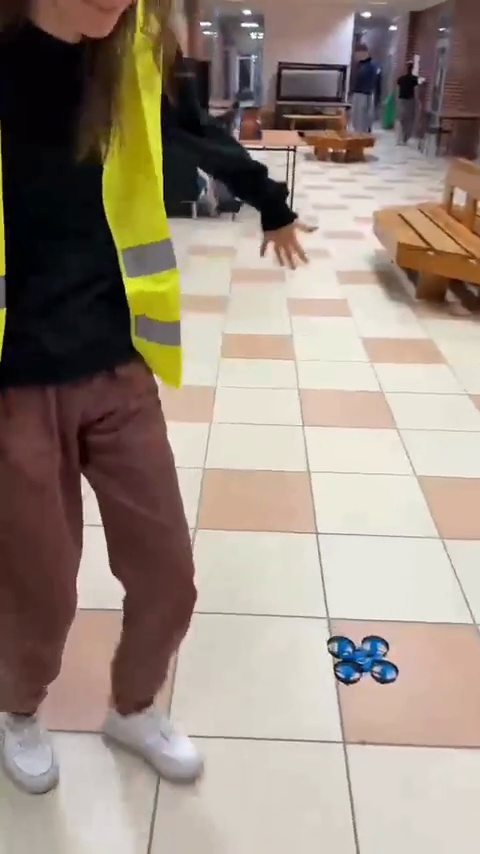drone: (325, 631, 397, 683)
no vest: (343, 42, 386, 147), (392, 53, 423, 141)
vest: (6, 1, 231, 757)
